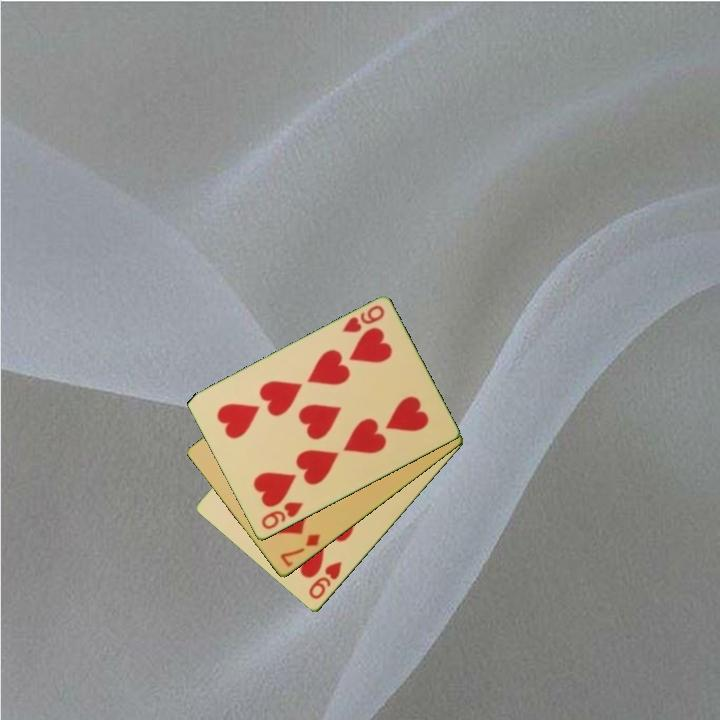7d: (277, 531, 323, 570)
9h: (305, 558, 345, 603), (339, 302, 388, 336), (258, 499, 306, 533)
